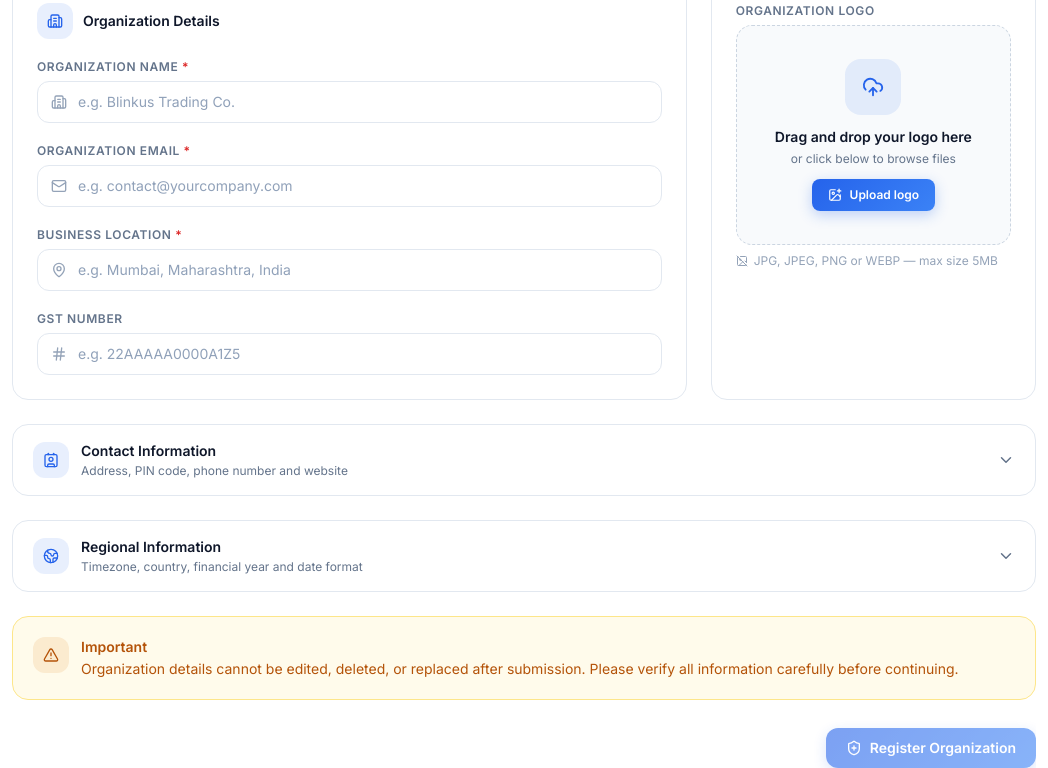
Scenario: AddOrganizationPage › Form submission › shows logo required error when Register Organization is clicked without uploading a logo
(page scrolled)
Click the button "Register Organization": click(931, 748) 826,728 -> 1036,767
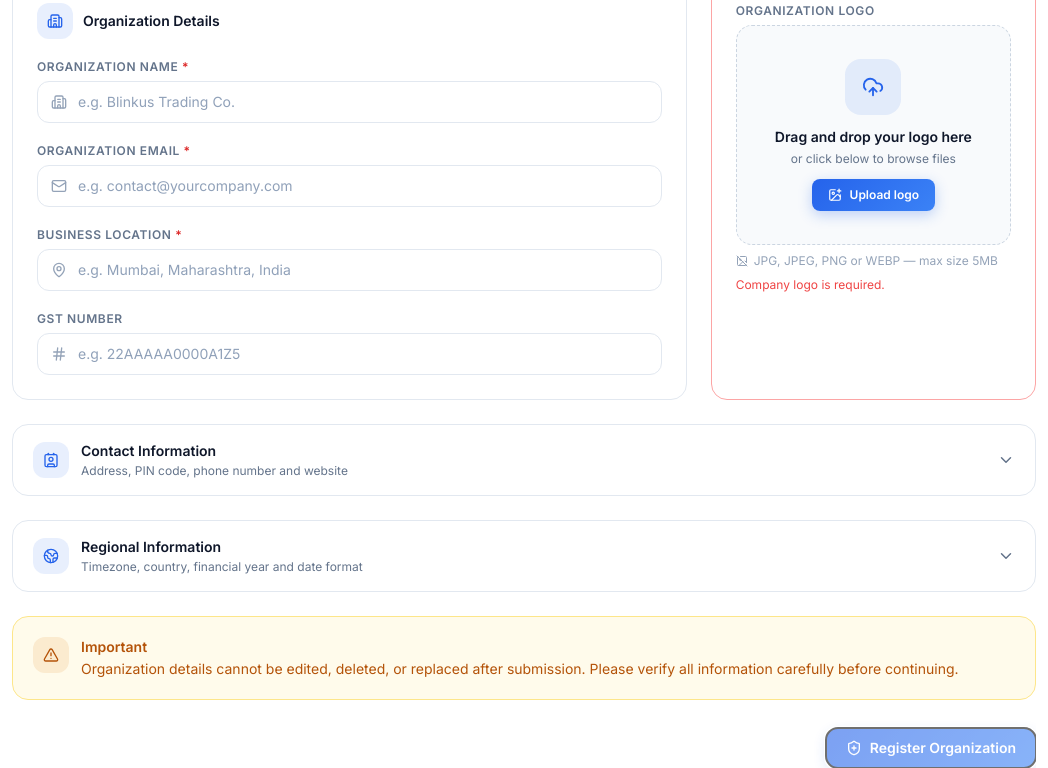
Expected: the text "Company logo is required." is shown, 736,277 -> 885,292
